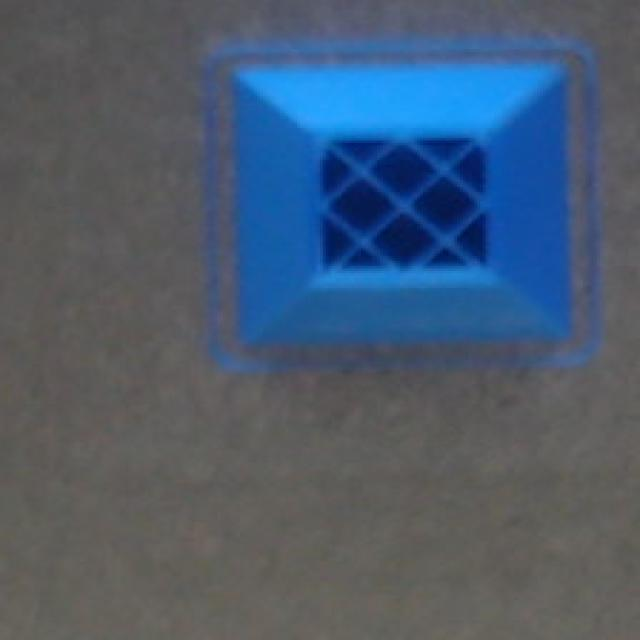noMistake: (218, 55, 582, 359)
